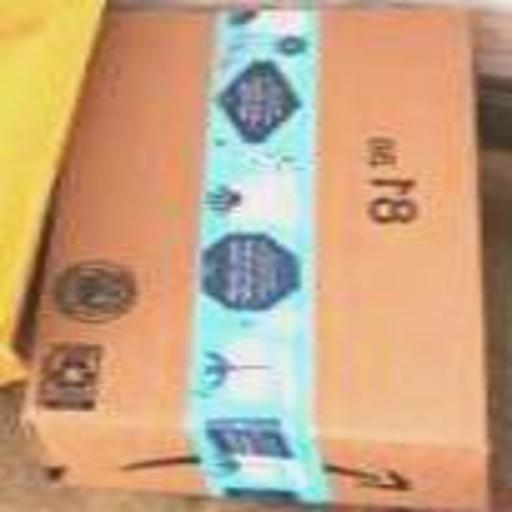Amazon: (43, 16, 486, 486)
